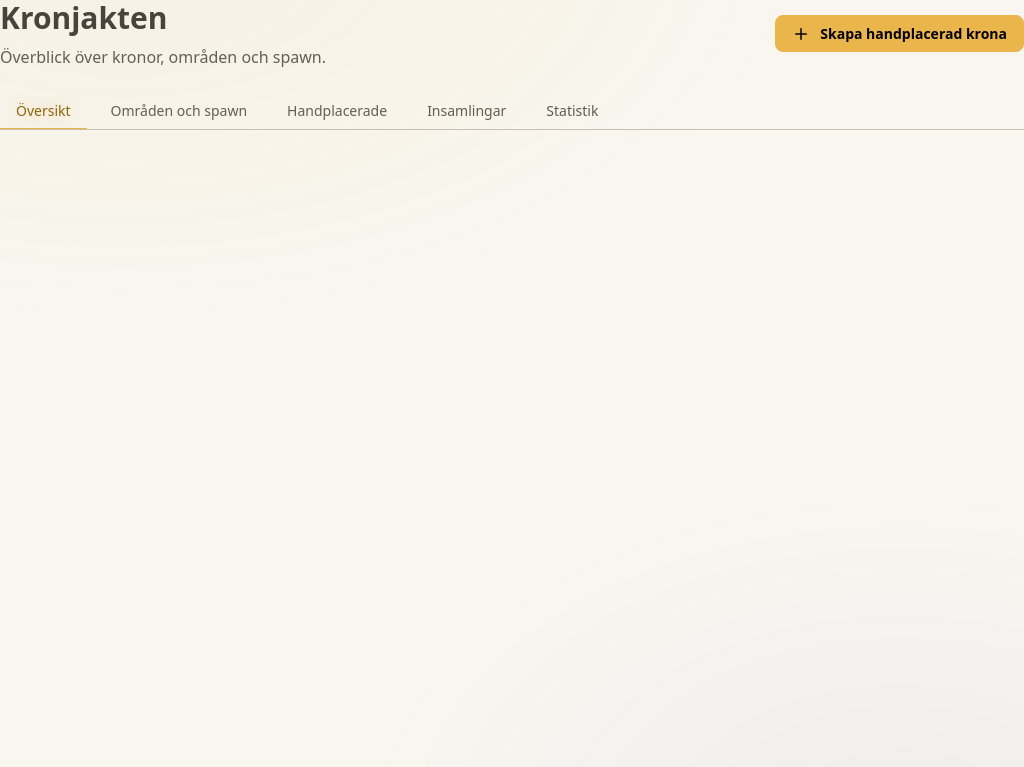
Kronjakt point form — collectable redesign › reverse-maps + prefills the FULL form when editing an existing point
Step 1. Click the tab "Handplacerade" → (337, 111), box [271,92,403,130]
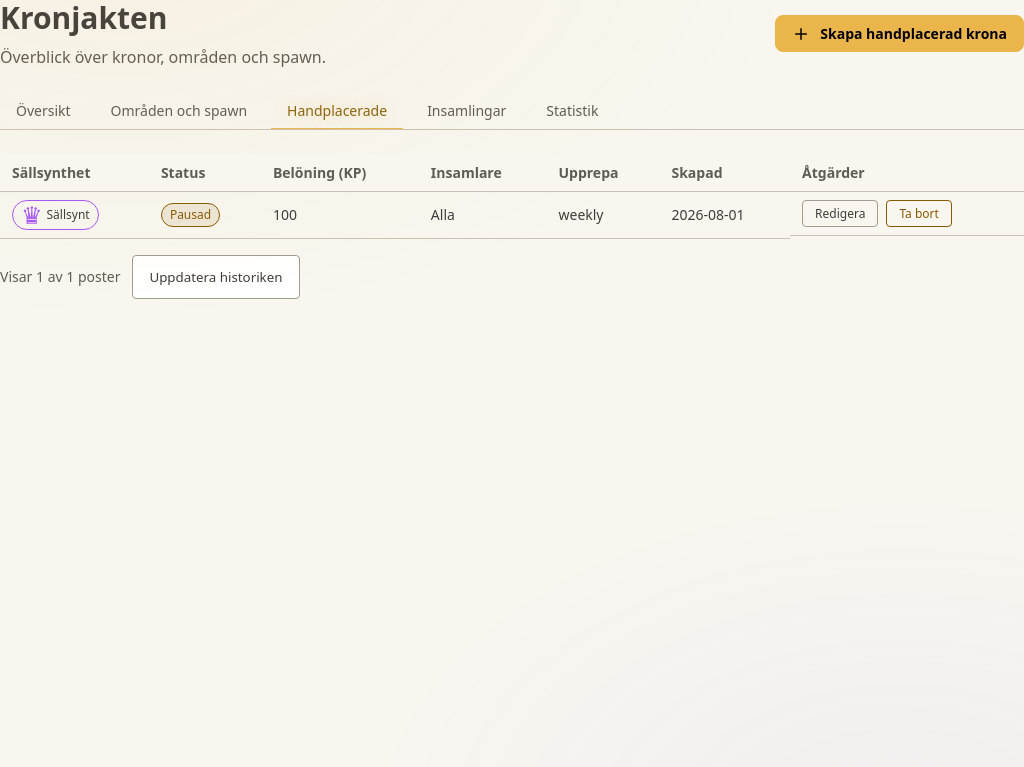
Step 2. Click the button "Redigera" → (840, 213), box [802,200,878,226]
(page scrolled)
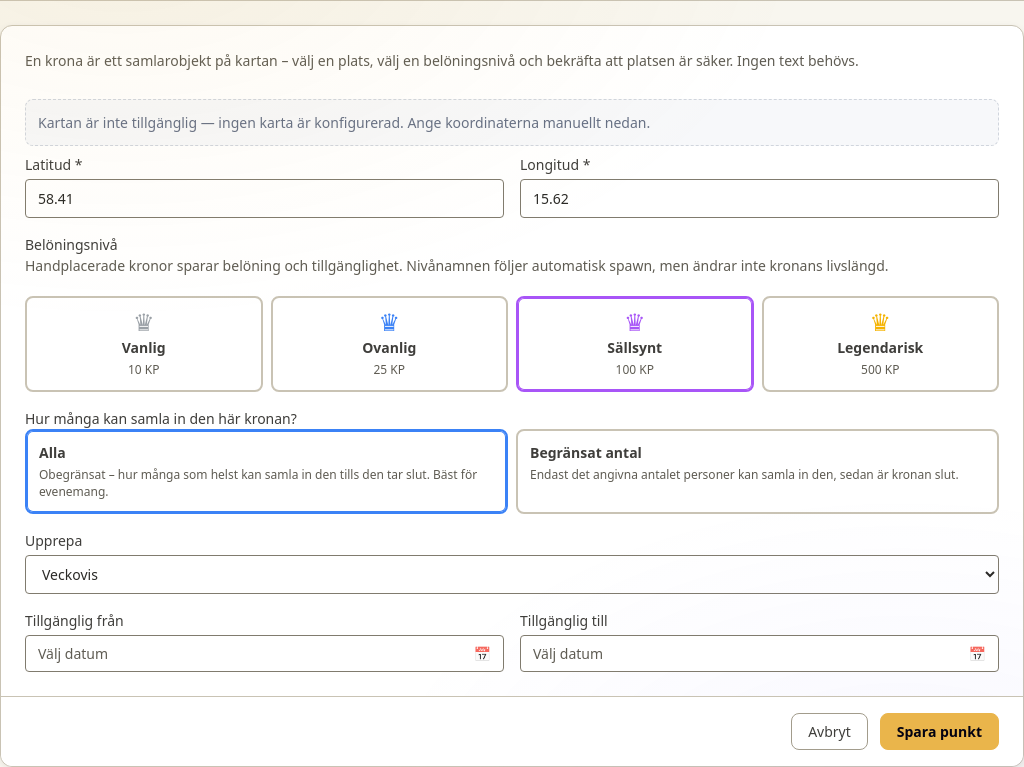
Now the number field labelled "Latitud *" holds "58.41", box [25,178,504,218]
Now the number field labelled "Longitud *" holds "15.62", box [520,178,999,218]
Now the button "♛ Sällsynt 100 KP" is shown, box [516,296,754,392]
Step 3. Submit the form
(page scrolled)
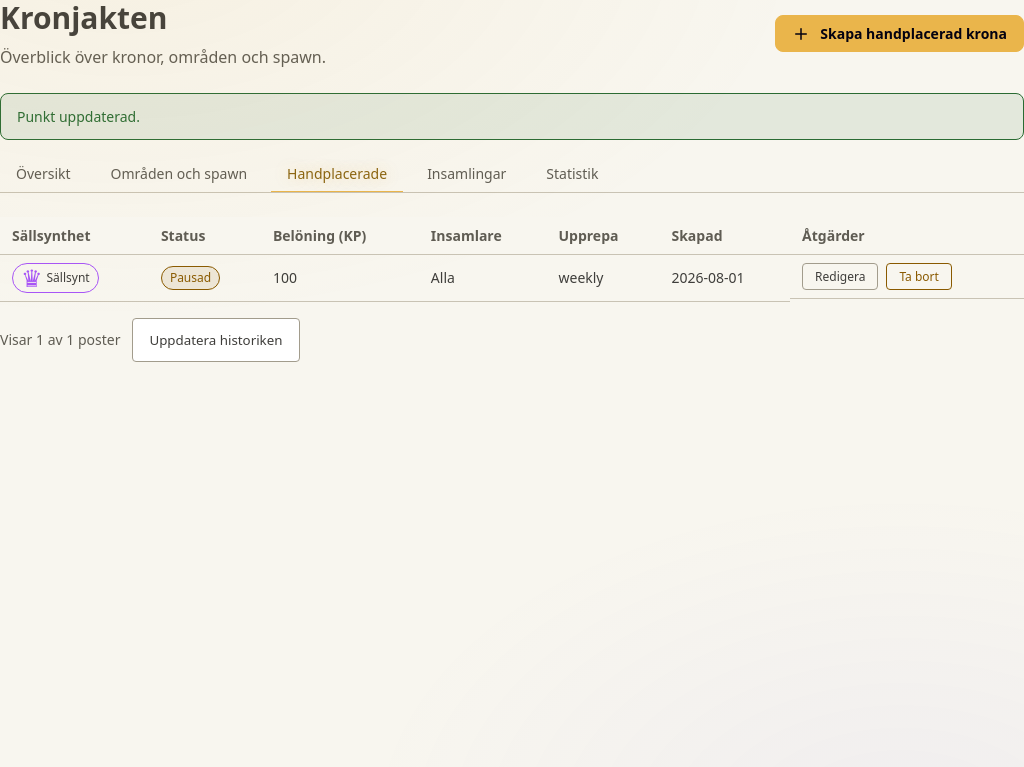
Now the cell "weekly" is shown, box [546,254,660,302]
